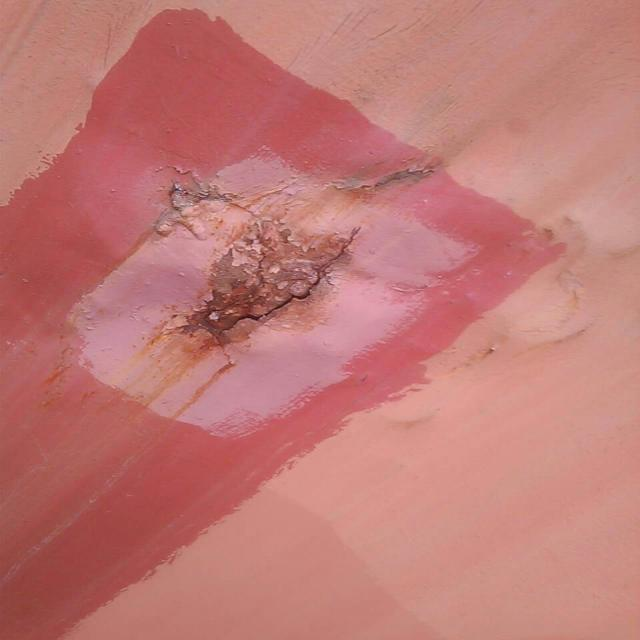dent: (140, 150, 453, 374)
